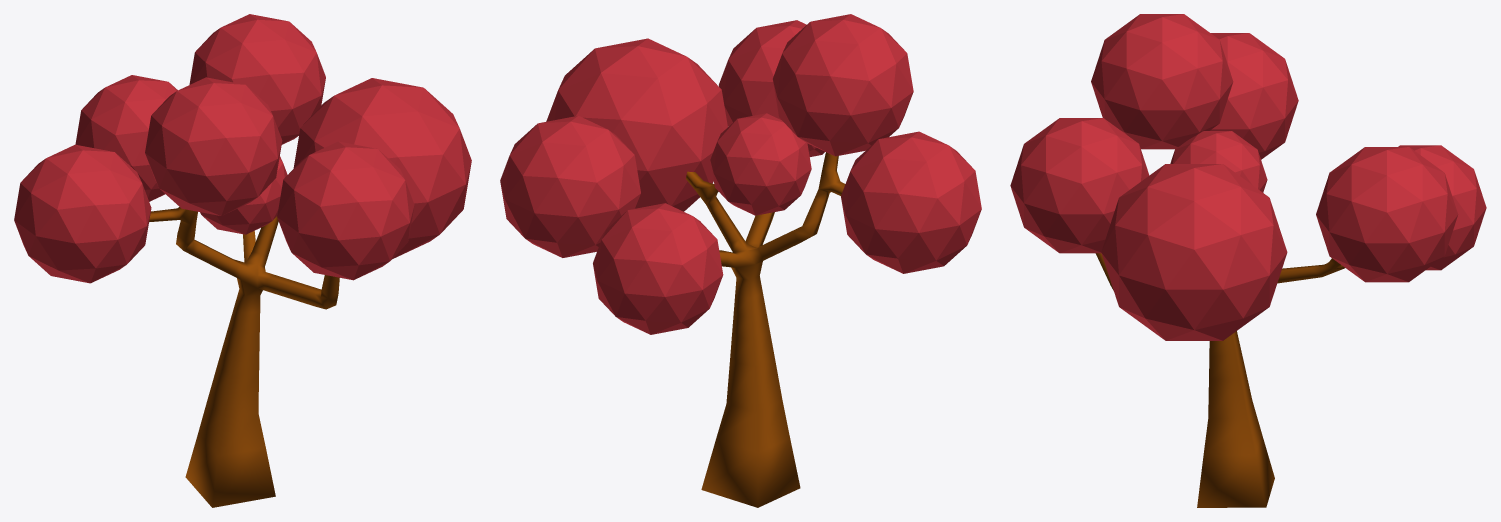
Rendered from Tree0003.fbx.
3 renders of one model, left to right at view 1: azimuth 30°, elevation 25°; view 2: azimuth 150°, elevation 25°; view 3: azimuth 270°, elevation 25°, orthographic. The views are drawn at different scales.
Parts seen in each view (by area): view 1: Branch, Icosphere.015, Icosphere.016, Icosphere.014, Icosphere.017, Icosphere.019, Icosphere.020, Icosphere.018; view 2: Branch, Icosphere.017, Icosphere.014, Icosphere.015, Icosphere.019, Icosphere.020, Icosphere.018, Icosphere.016; view 3: Icosphere.017, Icosphere.019, Icosphere.015, Icosphere.016, Branch, Icosphere.014, Icosphere.020, Icosphere.018.
Part boxes in pixels (x1,y1,x2,y2): Branch: (149, 207, 339, 507); Icosphere.015: (145, 77, 282, 215); Icosphere.016: (277, 141, 414, 280); Icosphere.014: (14, 144, 151, 283); Icosphere.017: (293, 78, 471, 258); Icosphere.019: (189, 14, 325, 144); Icosphere.020: (75, 75, 177, 201); Icosphere.018: (200, 156, 287, 234); Branch: (685, 152, 845, 507); Icosphere.017: (546, 38, 727, 211); Icosphere.014: (841, 131, 981, 273); Icosphere.015: (772, 14, 913, 156); Icosphere.019: (500, 115, 640, 257); Icosphere.020: (593, 203, 723, 334); Icosphere.018: (710, 113, 811, 215); Icosphere.016: (718, 20, 824, 156); Icosphere.017: (1101, 164, 1287, 340); Icosphere.019: (1316, 147, 1458, 282); Icosphere.015: (1091, 14, 1233, 149); Icosphere.016: (1010, 118, 1149, 253); Branch: (1095, 253, 1344, 507); Icosphere.014: (1210, 33, 1298, 159); Icosphere.020: (1398, 145, 1486, 270); Icosphere.018: (1170, 131, 1267, 192).
Bounding box in the file's own units: 485 × 496 × 474.
